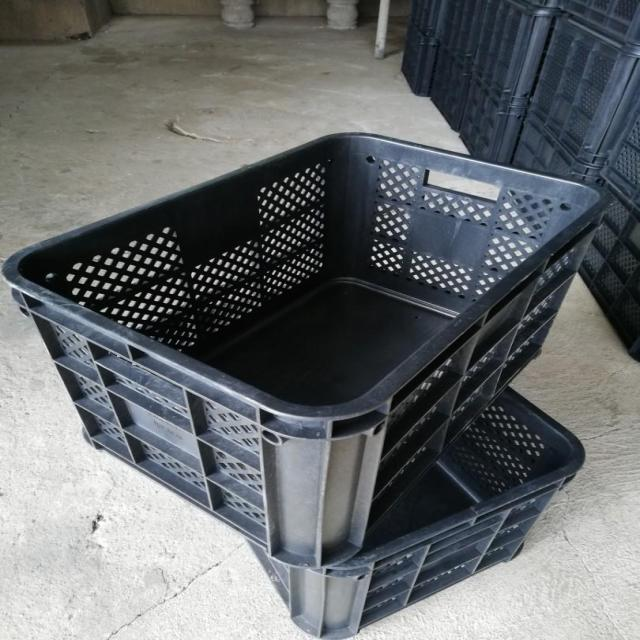plastic: (11, 129, 601, 637)
